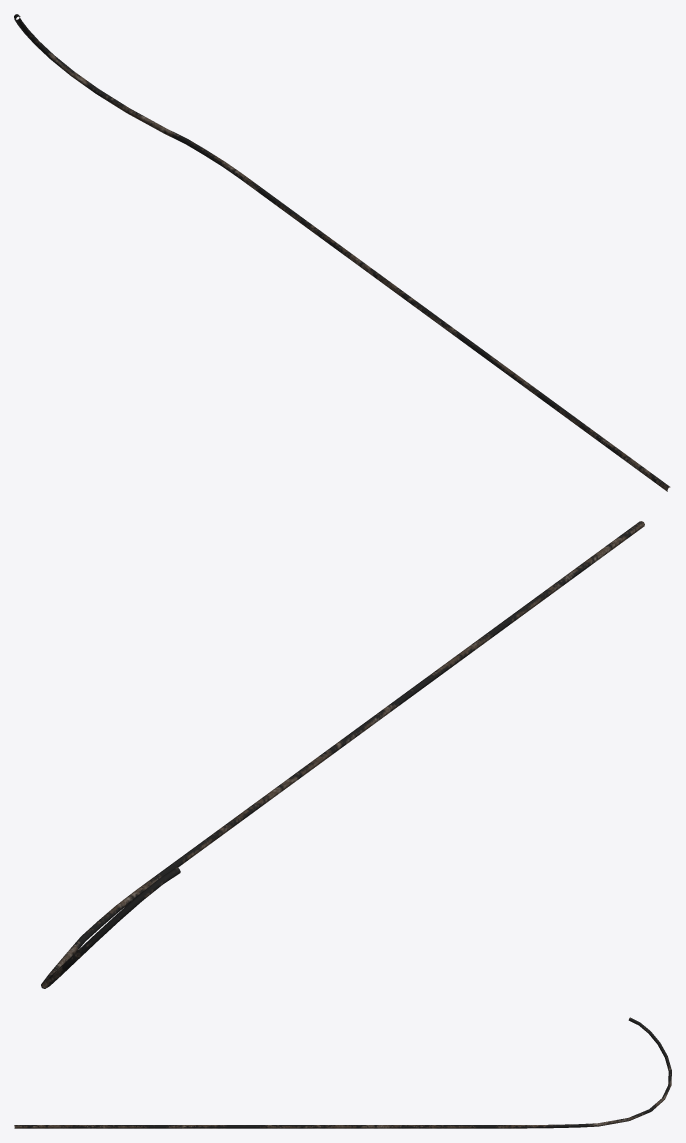
File: Wire.glb
3 renders of one model, top to bottom at view 1: azimuth 30°, elevation 25°; view 2: azimuth 150°, elevation 25°; view 3: azimuth 270°, elevation 25°, orthographic. The views are drawn at different scales.
Visible parts, largest first — view 1: SM_Wire; view 2: SM_Wire; view 3: SM_Wire.
Part boxes in pixels (x1,y1,x2,y2): SM_Wire: (14,14,670,491); SM_Wire: (41,521,644,988); SM_Wire: (14,1017,671,1128).
Bounding box in the file's own units: 0.6503 × 0.5874 × 4.7.
1 material, 1 textured.
